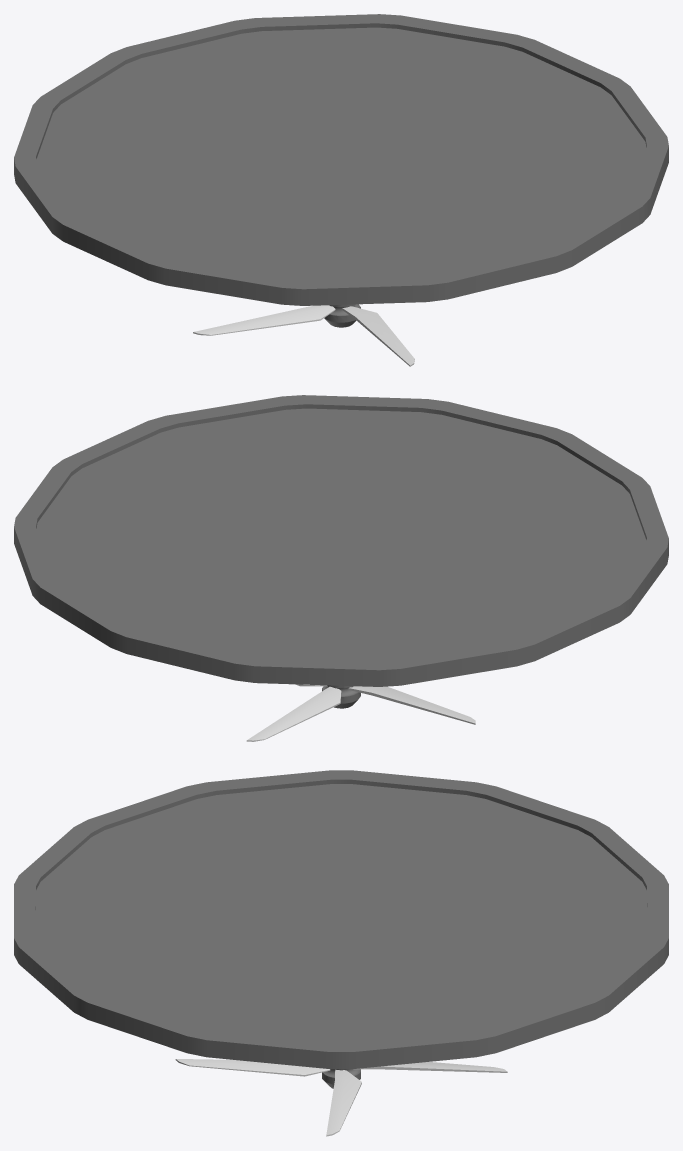
File: hubSide.fbx
3 views of the same model, one above another, from view 1: azimuth 30°, elevation 25°; view 2: azimuth 150°, elevation 25°; view 3: azimuth 270°, elevation 25° (orthographic).
Visible parts, largest first — view 1: polySurface2, polySurface9; view 2: polySurface2, polySurface9; view 3: polySurface2, polySurface9.
Part boxes in pixels (x1=…): polySurface2: x1=14, y1=14, x2=668, y2=327; polySurface9: x1=193, y1=305, x2=414, y2=366; polySurface2: x1=14, y1=395, x2=668, y2=708; polySurface9: x1=246, y1=684, x2=475, y2=741; polySurface2: x1=14, y1=770, x2=668, y2=1088; polySurface9: x1=175, y1=1059, x2=507, y2=1136.
Size of the model in its own units: 64.32 by 18.51 by 63.17.
Materials: 1 (1 with a texture image).
